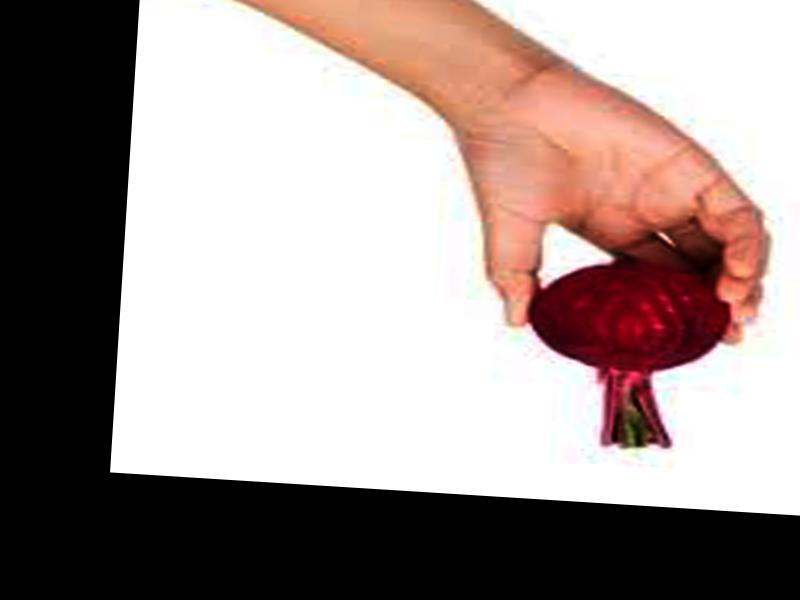Beet: (523, 254, 737, 454)
